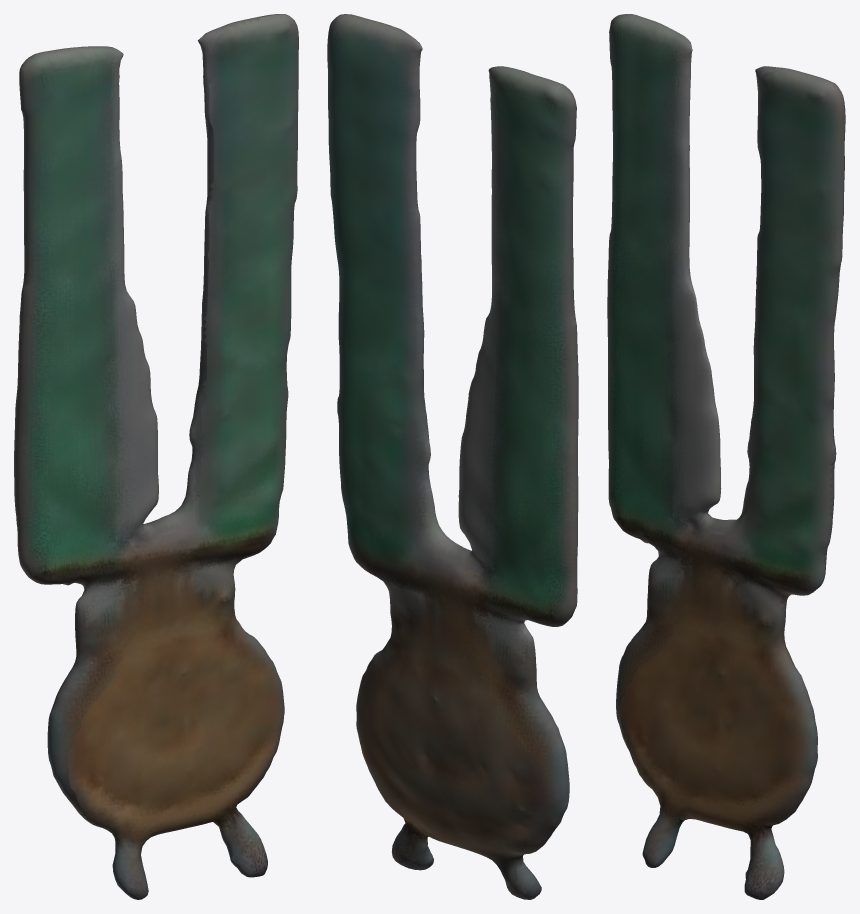
The model's file is kfl-2273.glb.
3 views of the same model, side by side, from view 1: azimuth 30°, elevation 25°; view 2: azimuth 150°, elevation 25°; view 3: azimuth 330°, elevation 25° (orthographic). The views are drawn at different scales.
Visible parts, largest first — view 1: geometry_0; view 2: geometry_0; view 3: geometry_0.
Part boxes in pixels (box(x1,y1,x2,y2)): geometry_0: box(14, 14, 298, 899); geometry_0: box(327, 14, 578, 899); geometry_0: box(607, 14, 845, 899).
Bounding box in the file's own units: 0.325 × 0.9915 × 0.1173.
Materials: 1 (1 with a texture image).
